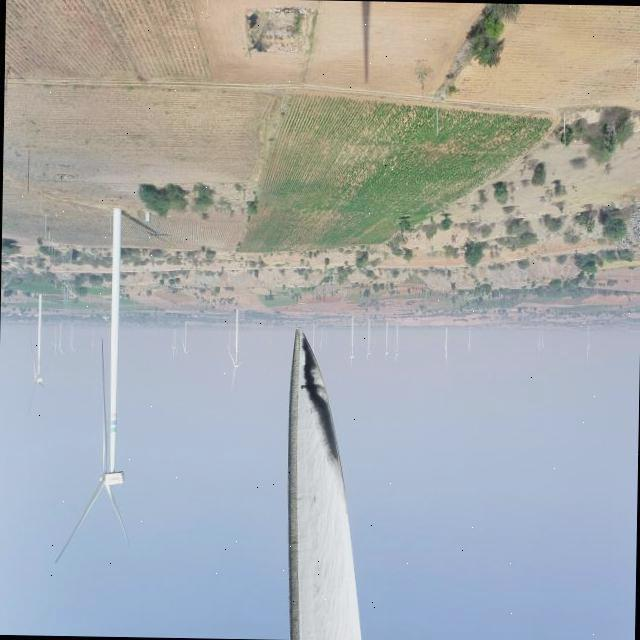Dirt: (288, 327, 365, 640)
Oil LEAKAGE: (301, 334, 341, 461)
Pin Hole: (297, 383, 309, 392)
